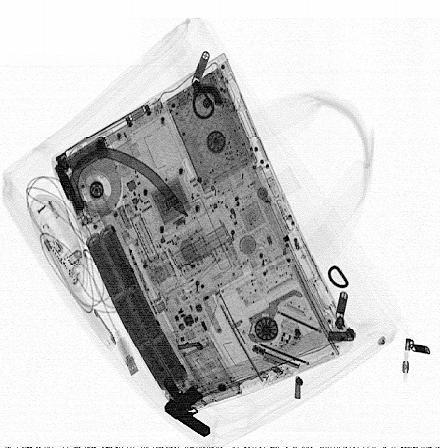Gun: (165, 383, 211, 437)
